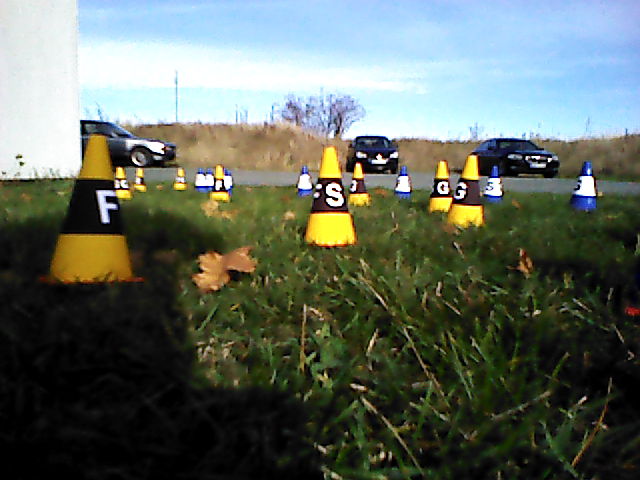bluecone: (569, 162, 596, 210), (484, 167, 502, 202), (393, 166, 413, 197)
yellowcone: (47, 135, 134, 280), (308, 148, 356, 243), (451, 156, 485, 226), (430, 160, 453, 211)
